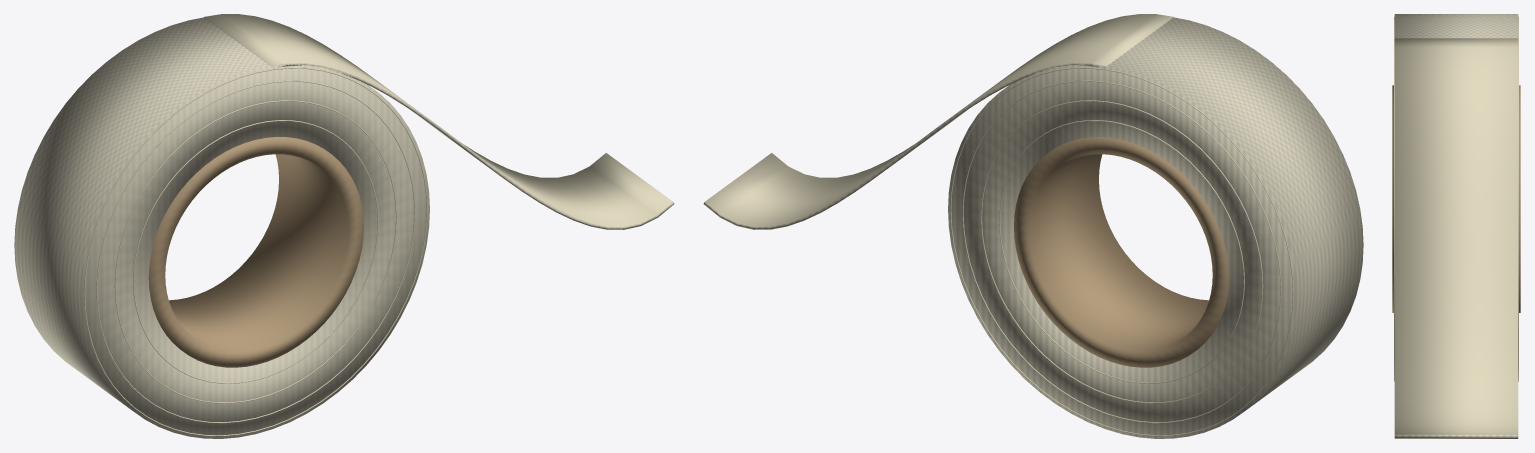
The model's file is p213-tape.glb.
The picture shows the model from 3 angles, left to right: view 1: azimuth 30°, elevation 25°; view 2: azimuth 150°, elevation 25°; view 3: azimuth 270°, elevation 25°; orthographic projection. The views are drawn at different scales.
Visible parts, largest first — view 1: p213-tape; view 2: p213-tape; view 3: p213-tape.
Part boxes in pixels (box(x1,y1,x2,y2)): p213-tape: box(14, 14, 674, 438); p213-tape: box(703, 14, 1363, 438); p213-tape: box(1392, 14, 1520, 438).
Bounding box in the file's own units: 0.194 × 0.114 × 0.0395.
3 materials, 1 textured.
